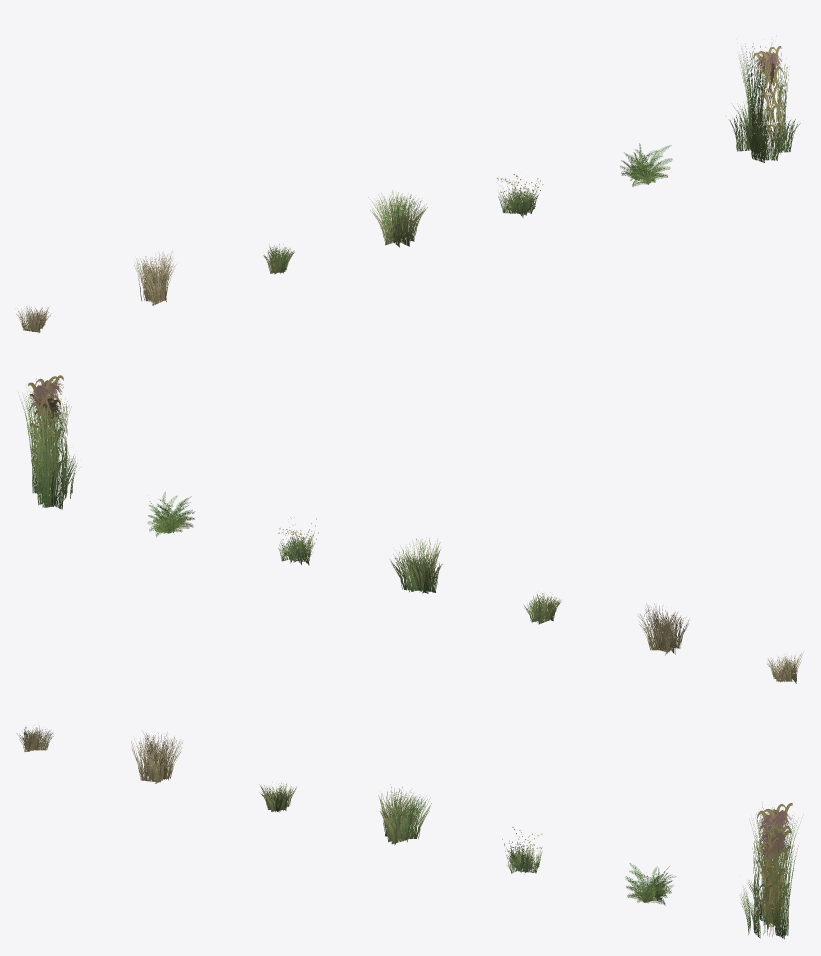
File: veg_grass_game.glb
3 renders of one model, top to bottom at view 1: azimuth 30°, elevation 25°; view 2: azimuth 150°, elevation 25°; view 3: azimuth 330°, elevation 25°, orthographic.
Parts seen in each view (by area): view 1: reed_clump, grass_green_tall, grass_dry_tall, fern_clump, grass_meadow_flowers; view 2: reed_clump, grass_green_tall, grass_dry_tall, fern_clump, grass_meadow_flowers, grass_green_short, grass_dry_short; view 3: reed_clump, grass_green_tall, grass_dry_tall, fern_clump, grass_meadow_flowers, grass_green_short, grass_dry_short.
Boxes of the visible parts, x1,y1,x2,y2 form: reed_clump: (726,43,800,162); grass_green_tall: (368,190,427,247); grass_dry_tall: (134,251,176,305); fern_clump: (620,143,672,186); grass_meadow_flowers: (496,174,543,217); reed_clump: (18,375,79,509); grass_green_tall: (390,537,442,593); grass_dry_tall: (637,603,689,655); fern_clump: (147,491,194,537); grass_meadow_flowers: (278,517,318,565); grass_green_short: (523,592,561,624); grass_dry_short: (767,651,803,683); reed_clump: (739,802,802,939); grass_green_tall: (378,784,431,845); grass_dry_tall: (131,730,183,783); fern_clump: (625,863,676,905); grass_meadow_flowers: (502,827,542,874); grass_green_short: (259,782,296,812); grass_dry_short: (16,725,53,751).
Bounding box in the file's own units: 15.93 × 2.45 × 1.46.
Materials: 7 (7 with a texture image).
